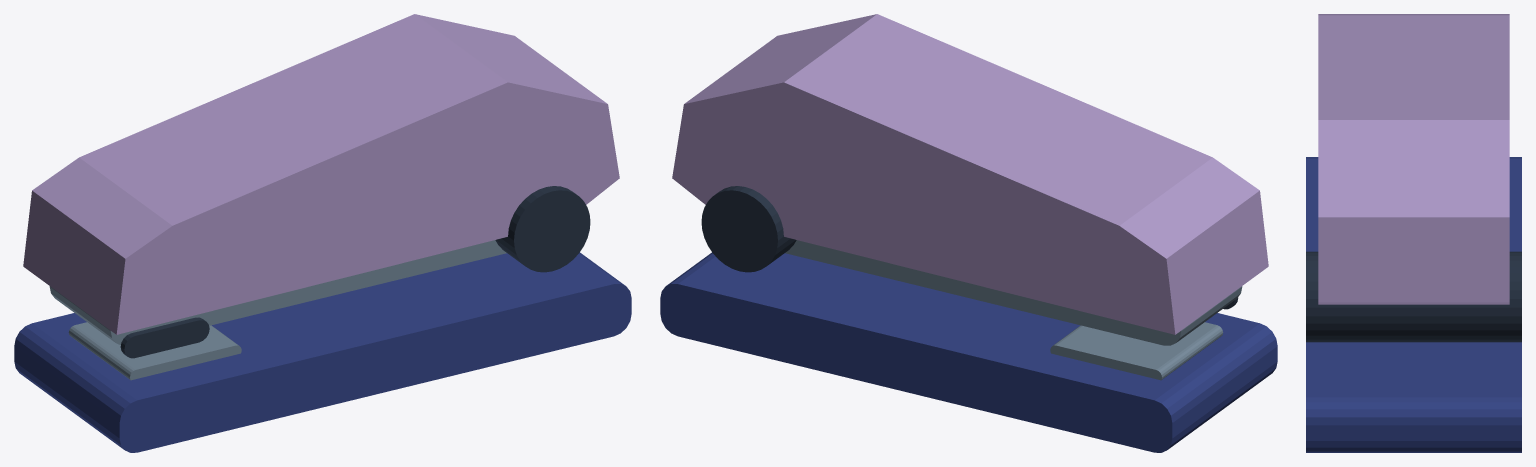
The model's file is nailer.glb.
3 views of the same model, side by side, from view 1: azimuth 30°, elevation 25°; view 2: azimuth 150°, elevation 25°; view 3: azimuth 270°, elevation 25° (orthographic). The views are drawn at different scales.
Parts seen in each view (by area): view 1: lever, base, hinge, magazine, anvil, paper notch; view 2: lever, base, magazine, hinge, anvil; view 3: lever, base, hinge.
Part boxes in pixels (bbox=[...]): lever: bbox=[23, 14, 619, 334]; base: bbox=[14, 252, 631, 452]; hinge: bbox=[495, 186, 590, 272]; magazine: bbox=[49, 240, 506, 345]; anvil: bbox=[68, 322, 241, 380]; paper notch: bbox=[120, 317, 209, 358]; lever: bbox=[672, 14, 1268, 334]; base: bbox=[660, 252, 1277, 452]; magazine: bbox=[785, 240, 1242, 345]; hinge: bbox=[701, 186, 796, 272]; anvil: bbox=[1050, 322, 1223, 380]; lever: bbox=[1318, 14, 1509, 304]; base: bbox=[1306, 157, 1521, 452]; hinge: bbox=[1306, 251, 1521, 342].
Size of the model in its own units: 1.74 by 0.89 by 0.62.
